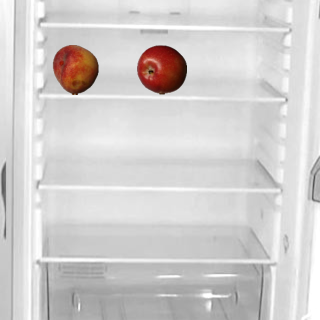Apple Braeburn: (136, 44, 186, 94)
Peach: (50, 44, 100, 94)
